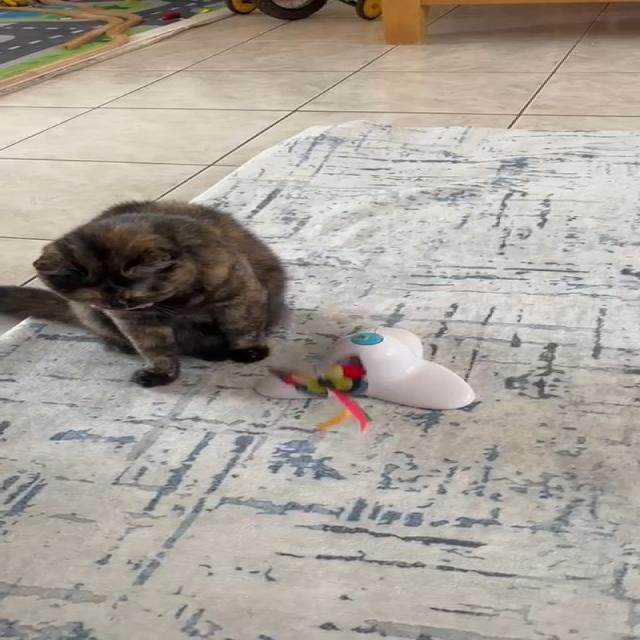authorized: (2, 198, 290, 387)
